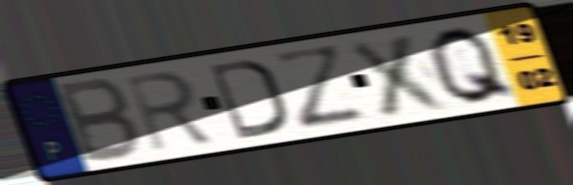B: (55, 74, 145, 167)
D: (205, 56, 290, 142)
Q: (424, 23, 522, 108)
R: (121, 67, 218, 155)
X: (343, 29, 457, 120)
Z: (268, 42, 372, 134)
